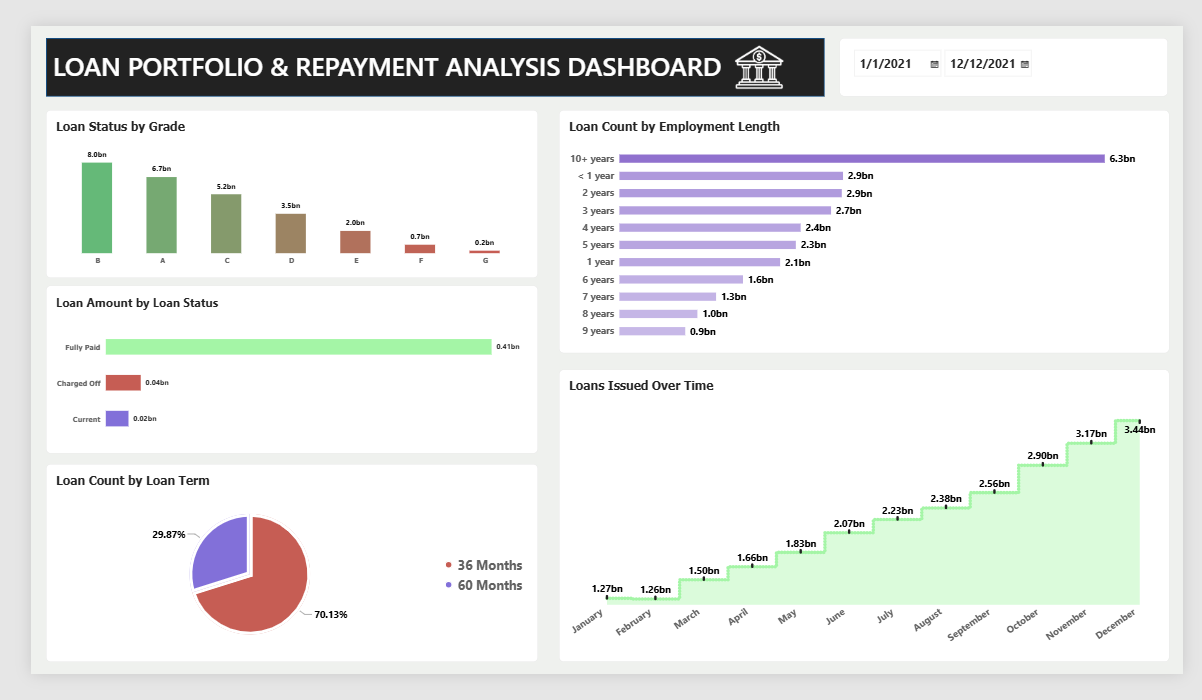

The page's visual inventory and layout, read from the dashboard file:
{"tool":"powerbi","page":{"name":"Loan Performance Analysis","canvas":[1920,1080],"ordinal":1},"visuals":[{"type":"shape","box":[25,20,1297.5,97.5],"z":4000},{"type":"textbox","box":[25,37.5,1247.5,75],"z":5000},{"type":"image","box":[1080,27.5,267.5,82.5],"z":7000},{"type":"columnChart","title":"Loan Status by Grade","fields":{"Category":["Bank_Loan_data.grade"],"Y":["Sum(Bank_Loan_data.ID)"]},"box":[25,140,820,280],"z":7001},{"type":"barChart","title":"Loan Amount by Loan Status","fields":{"Category":["Bank_Loan_data.loan_status"],"Y":["Bank_Loan_data.Total Loan Amount"]},"box":[25,432.5,820,280],"z":7002},{"type":"pieChart","title":"Loan Count by Loan Term","fields":{"Category":["Bank_Loan_data.term"],"Y":["Sum(Bank_Loan_data.ID)"]},"box":[25,730,820,330],"z":7003},{"type":"barChart","title":"Loan Count by Employment Length      ","fields":{"Category":["Bank_Loan_data.Emp_Length"],"Y":["Sum(Bank_Loan_data.ID)"]},"box":[880,140,1017.5,405],"z":7004},{"type":"areaChart","title":"Loans Issued Over Time","fields":{"Category":["Bank_Loan_data.issue_date.Variation.Date Hierarchy.Month"],"Y":["Sum(Bank_Loan_data.ID)"]},"box":[880,572.5,1017.5,487.5],"z":7005},{"type":"slicer","fields":{"Values":["Bank_Loan_data.issue_date"]},"box":[1347.5,20,547.5,97.5],"z":7006}]}

Visuals, with their boxes on the page's 1920x1080 design canvas (x1, y1, x2, y2). These are canvas units, not pixel positions in the 1202x700 screenshot, which may show the page scaled, cropped or inside an application window:
shape: (25, 20, 1322, 118)
textbox: (25, 38, 1272, 112)
image: (1080, 28, 1348, 110)
"Loan Status by Grade" columnChart: (25, 140, 845, 420)
"Loan Amount by Loan Status" barChart: (25, 432, 845, 712)
"Loan Count by Loan Term" pieChart: (25, 730, 845, 1060)
"Loan Count by Employment Length      " barChart: (880, 140, 1898, 545)
"Loans Issued Over Time" areaChart: (880, 572, 1898, 1060)
slicer - Bank_Loan_data.issue_date: (1348, 20, 1895, 118)
